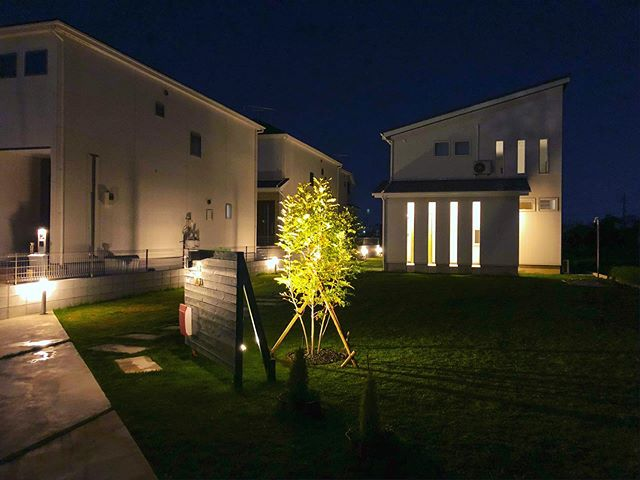building: (1, 25, 279, 298), (375, 75, 570, 269), (259, 129, 342, 265)
grass: (161, 280, 640, 480)
sky: (223, 1, 640, 95)
tree: (267, 176, 363, 382)
